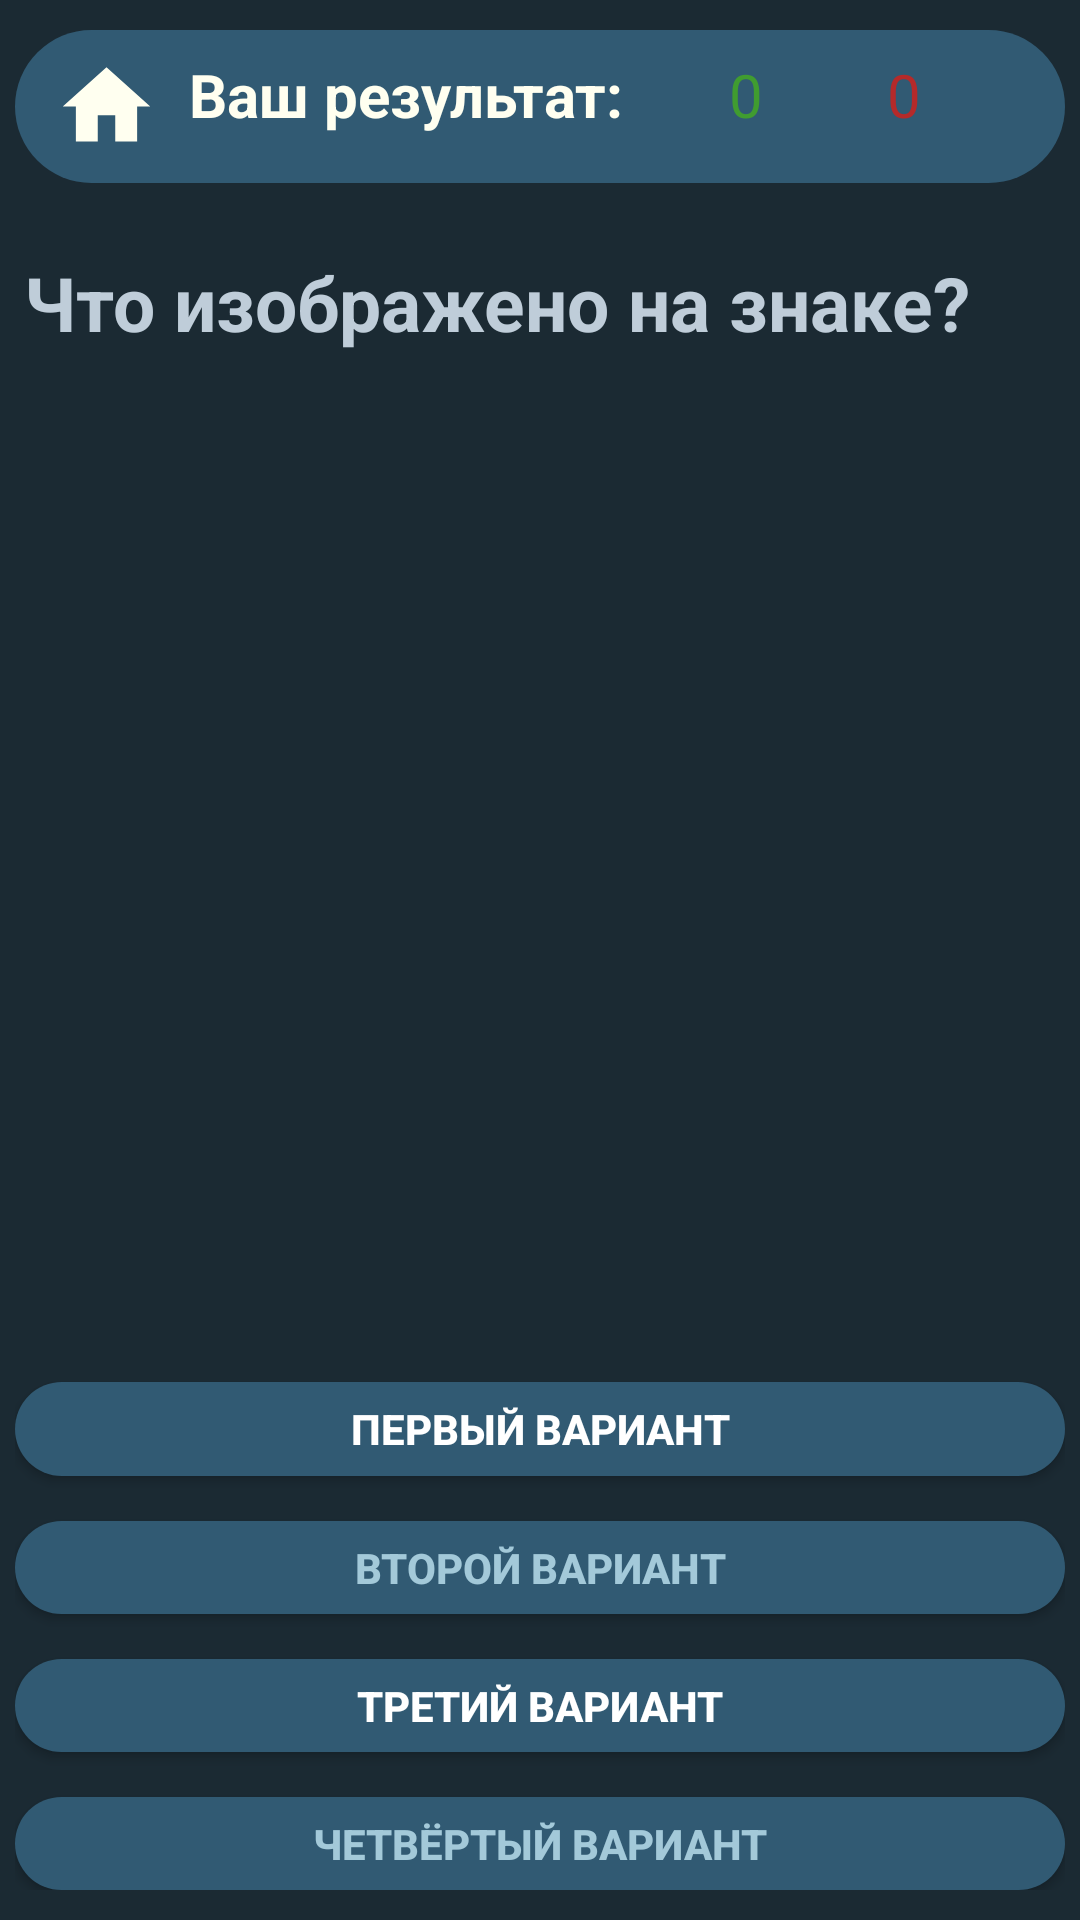

Named icons in this screenshot (1080x1920) and their bounding boxes, {"x1": x1, "y1": y1, "x2": x2, "y2": y2}:
home: {"x1": 63, "y1": 67, "x2": 150, "y2": 142}
